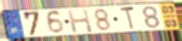6: (45, 9, 67, 36)
7: (22, 11, 42, 37)
8: (141, 5, 162, 30), (92, 8, 112, 32)
H: (66, 8, 95, 34)
T: (119, 6, 137, 32)
